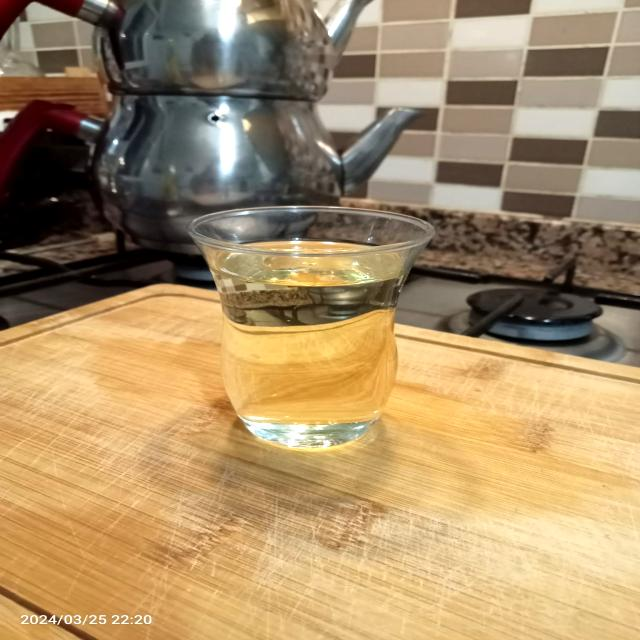olive oil: (160, 203, 446, 453)
